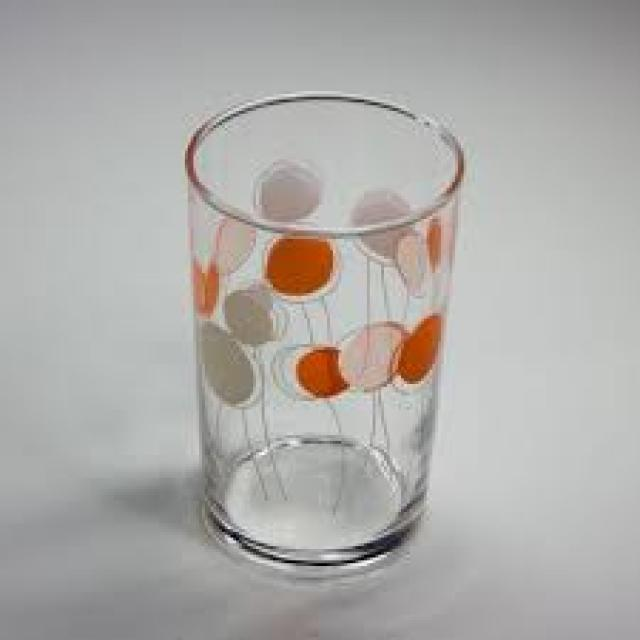Glass: (178, 94, 468, 582)
